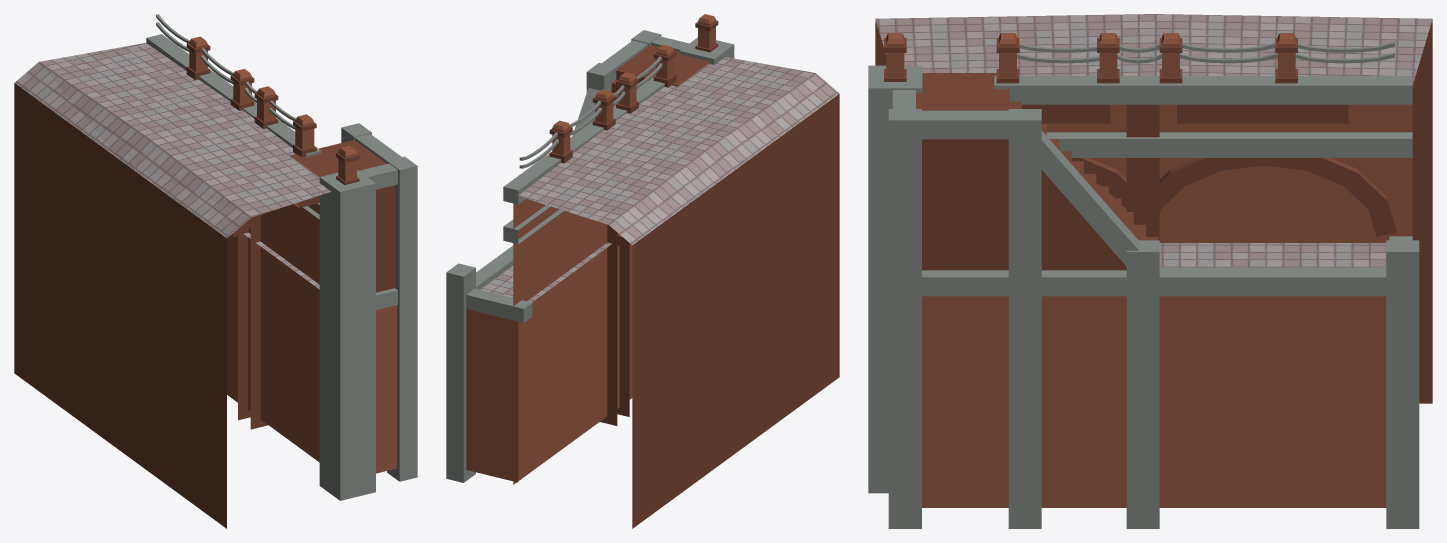
Rendered from RiverWallStairs.glb.
3 views of the same model, side by side, from view 1: azimuth 30°, elevation 25°; view 2: azimuth 150°, elevation 25°; view 3: azimuth 270°, elevation 25° (orthographic). The views are drawn at different scales.
Visible parts, largest first — view 1: Cube_046; view 2: Cube_046; view 3: Cube_046.
Part boxes in pixels (x1=…): Cube_046: x1=14, y1=14, x2=417, y2=528; Cube_046: x1=446, y1=14, x2=839, y2=528; Cube_046: x1=868, y1=14, x2=1432, y2=528.
Size of the model in its own units: 5.74 by 9.61 by 10.92.
2 materials, 2 textured.
